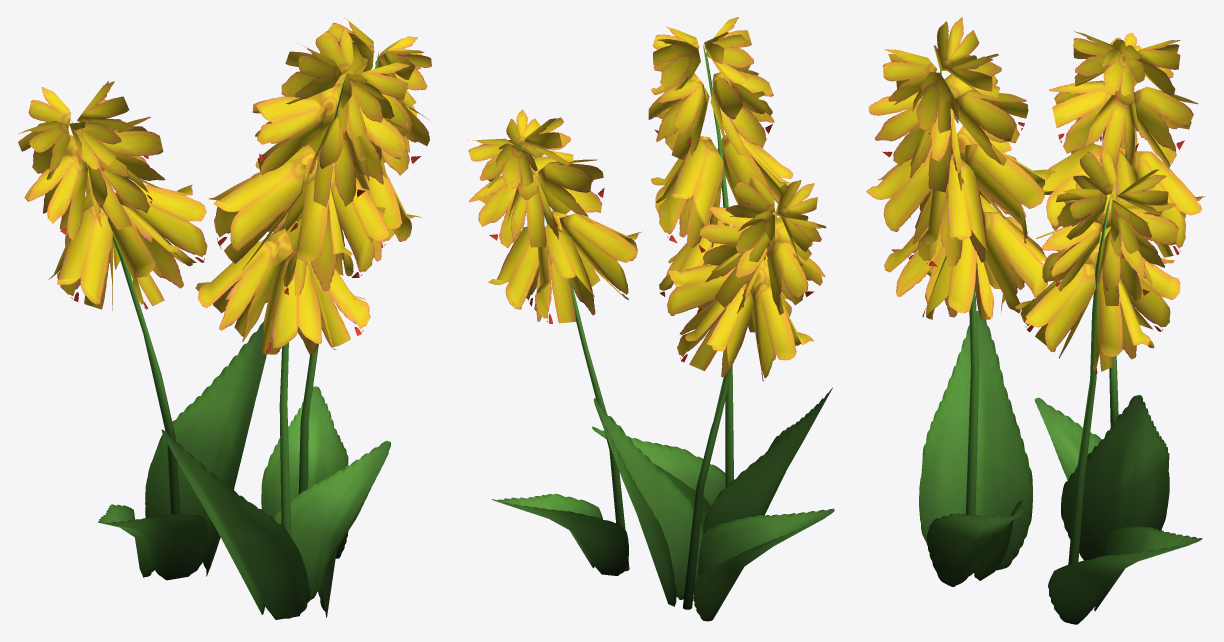
File: plant_qt_flowers_b.glb
3 renders of one model, left to right at view 1: azimuth 30°, elevation 25°; view 2: azimuth 150°, elevation 25°; view 3: azimuth 270°, elevation 25°, orthographic. The views are drawn at different scales.
Visible parts, largest first — view 1: Flower_4_Group; view 2: Flower_4_Group; view 3: Flower_4_Group.
Part boxes in pixels (box(x1,y1,x2,y2)): Flower_4_Group: box(18, 17, 431, 619); Flower_4_Group: box(467, 17, 834, 621); Flower_4_Group: box(866, 17, 1205, 624).
Size of the model in its own units: 1.78 by 2.49 by 1.37.
2 materials, 2 textured.
